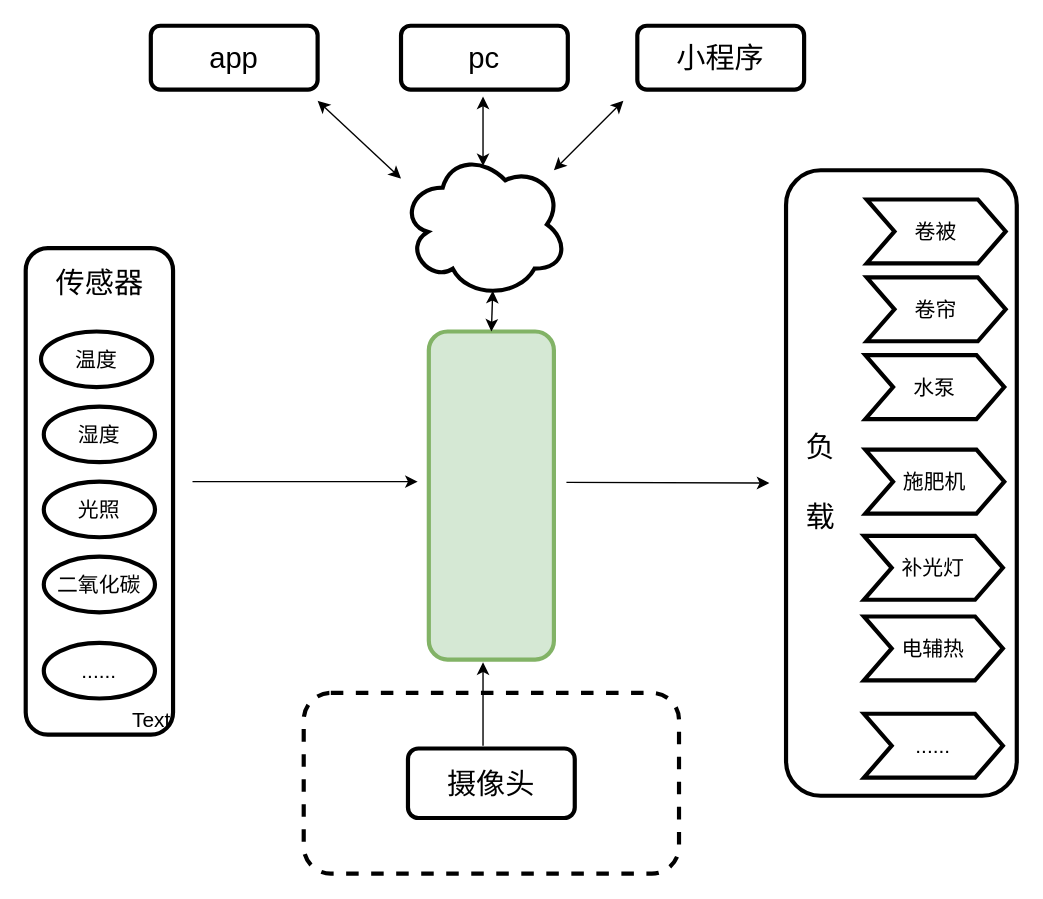
Some shapes in this 1043 by 899 pixel diagram are drawn without their labels. Each missing label, with the box of its shape:
internet: (398, 148, 569, 300)
边 缘 计 算 设 备: (426, 329, 555, 661)
